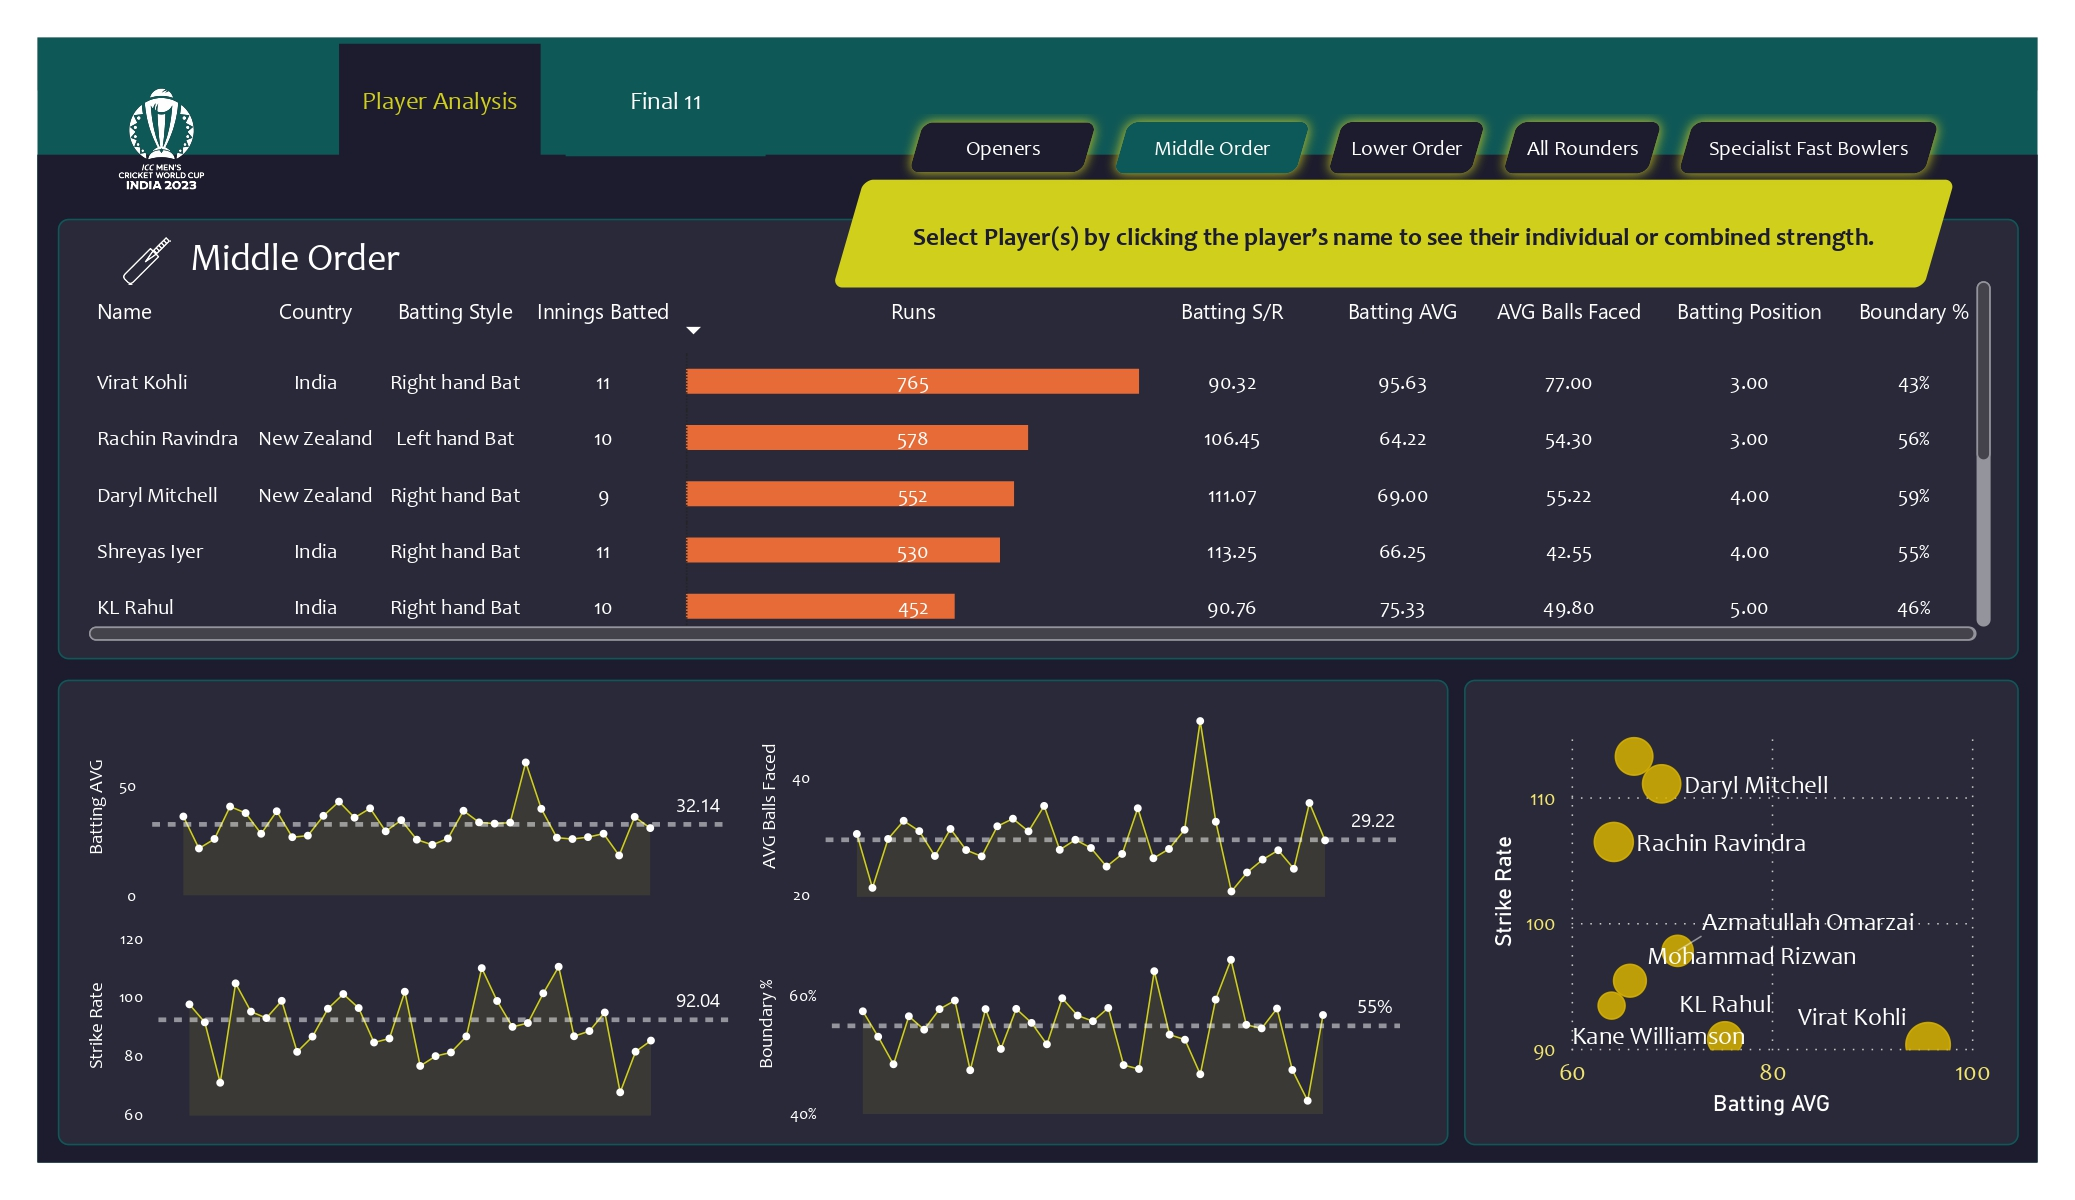

This screenshot's page, from the dashboard's own definition file:
{"tool":"powerbi","page":{"name":"Middle Order","canvas":[1280,720],"ordinal":1},"visuals":[{"type":"shape","box":[0,74.8,1280.8,645.2],"z":0},{"type":"shape","box":[913,411.3,354.6,297.9],"z":1000},{"type":"image","box":[48,122.9,43.8,39.6],"z":2000},{"type":"shape","box":[13.3,115.8,1254.3,282.2],"z":3000},{"type":"tableEx","title":"sdfsdfsdsdv","fields":{"Values":["player_details.name","player_details.country","player_details.battingStyle","key_measures.total innings batted","key_measures.total runs","key_measures.strike rate","key_measures.batting avg","key_measures.avg balls faced","key_measures.Batting Position","key_measures.boundary %"]},"box":[26.5,150.8,1228.9,240],"z":4000},{"type":"scatterChart","fields":{"X":["key_measures.batting avg"],"Y":["key_measures.strike rate"],"Category":["player_details.name"],"Series":["player_details.name"],"Size":["key_measures.total runs"]},"box":[925,431.8,330.5,262.9],"z":5000},{"type":"shape","box":[69.2,122.9,190.8,35.3],"z":6000},{"type":"shape","box":[508.6,91.1,718.8,68.7],"z":7000},{"type":"card","fields":{"Values":["key_measures.batting avg"]},"box":[785.1,92.9,108.5,68.7],"z":8000},{"type":"card","fields":{"Values":["key_measures.strike rate"]},"box":[893.7,92.9,109.7,68.7],"z":9000},{"type":"card","fields":{"Values":["key_measures.boundary %"]},"box":[1115.6,92.9,104.9,68.7],"z":10000},{"type":"card","fields":{"Values":["key_measures.avg balls faced"]},"box":[1003.4,92.9,112.2,68.7],"z":11000},{"type":"shape","box":[539.1,98.9,246,57.9],"z":12000},{"type":"actionButton","box":[546.3,42.5,143.5,56],"z":13000},{"type":"actionButton","box":[676.6,42.5,150.8,56.7],"z":14000},{"type":"actionButton","box":[1038.4,42.5,190.6,56.7],"z":15000},{"type":"actionButton","box":[926.2,42.5,125.4,56.7],"z":16000},{"type":"actionButton","box":[814.1,42.5,125.4,56.7],"z":17000},{"type":"shape","box":[13.3,411.3,890.1,297.9],"z":18000},{"type":"areaChart","fields":{"Y":["key_measures.batting avg"],"Category":["match_summay.Match Date.Variation.Date Hierarchy.Day"]},"box":[26.5,422.1,420,140],"z":19000},{"type":"areaChart","fields":{"Y":["key_measures.avg balls faced"],"Category":["match_summay.Match Date.Variation.Date Hierarchy.Day"]},"box":[458.3,420.9,420.9,140],"z":20000},{"type":"areaChart","fields":{"Y":["key_measures.strike rate"],"Category":["match_summay.Match Date.Variation.Date Hierarchy.Day"]},"box":[26.5,562,420.9,140],"z":21000},{"type":"areaChart","fields":{"Y":["key_measures.boundary %"],"Category":["match_summay.Match Date.Variation.Date Hierarchy.Day"]},"box":[455.9,560.8,420.9,140],"z":22000},{"type":"image","box":[13.3,13.3,132.7,102.5],"z":23000},{"type":"actionButton","box":[189.3,0,136.3,79.6],"z":24000},{"type":"actionButton","box":[334.1,0,136.3,79.6],"z":25000},{"type":"shape","box":[558.6,102.2,618.2,51.1],"z":26000}]}

Visuals, with their boxes on the page's 1280x720 design canvas (x1, y1, x2, y2). These are canvas units, not pixel positions in the 2075x1200 screenshot, which may show the page scaled, cropped or inside an application window:
shape: select_region(0, 75, 1281, 720)
shape: select_region(913, 411, 1268, 709)
image: select_region(48, 123, 92, 162)
shape: select_region(13, 116, 1268, 398)
"sdfsdfsdsdv" tableEx: select_region(26, 151, 1255, 391)
scatterChart - key_measures.batting avg x key_measures.strike rate: select_region(925, 432, 1256, 695)
shape: select_region(69, 123, 260, 158)
shape: select_region(509, 91, 1227, 160)
card - key_measures.batting avg: select_region(785, 93, 894, 162)
card - key_measures.strike rate: select_region(894, 93, 1003, 162)
card - key_measures.boundary %: select_region(1116, 93, 1220, 162)
card - key_measures.avg balls faced: select_region(1003, 93, 1116, 162)
shape: select_region(539, 99, 785, 157)
actionButton: select_region(546, 42, 690, 98)
actionButton: select_region(677, 42, 827, 99)
actionButton: select_region(1038, 42, 1229, 99)
actionButton: select_region(926, 42, 1052, 99)
actionButton: select_region(814, 42, 940, 99)
shape: select_region(13, 411, 903, 709)
areaChart - key_measures.batting avg x match_summay.Match Date.Variation.Date Hierarchy.Day: select_region(26, 422, 446, 562)
areaChart - key_measures.avg balls faced x match_summay.Match Date.Variation.Date Hierarchy.Day: select_region(458, 421, 879, 561)
areaChart - key_measures.strike rate x match_summay.Match Date.Variation.Date Hierarchy.Day: select_region(26, 562, 447, 702)
areaChart - key_measures.boundary % x match_summay.Match Date.Variation.Date Hierarchy.Day: select_region(456, 561, 877, 701)
image: select_region(13, 13, 146, 116)
actionButton: select_region(189, 0, 326, 80)
actionButton: select_region(334, 0, 470, 80)
shape: select_region(559, 102, 1177, 153)
